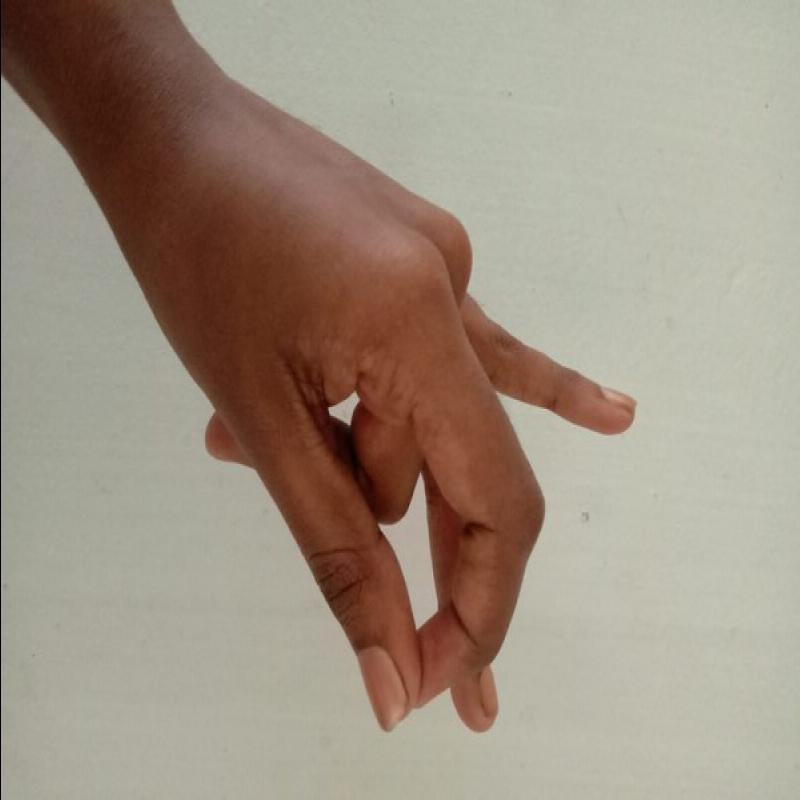Katakam: (183, 145, 652, 745)
